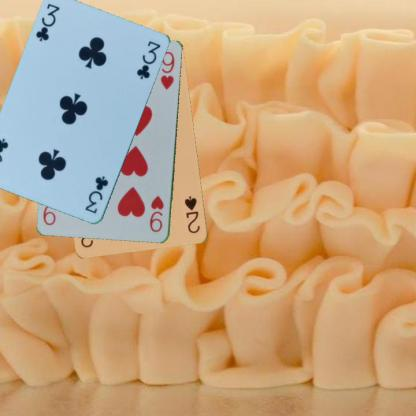2s: (182, 194, 202, 235)
3c: (82, 173, 110, 215), (33, 1, 61, 43)
9h: (147, 193, 165, 233)
